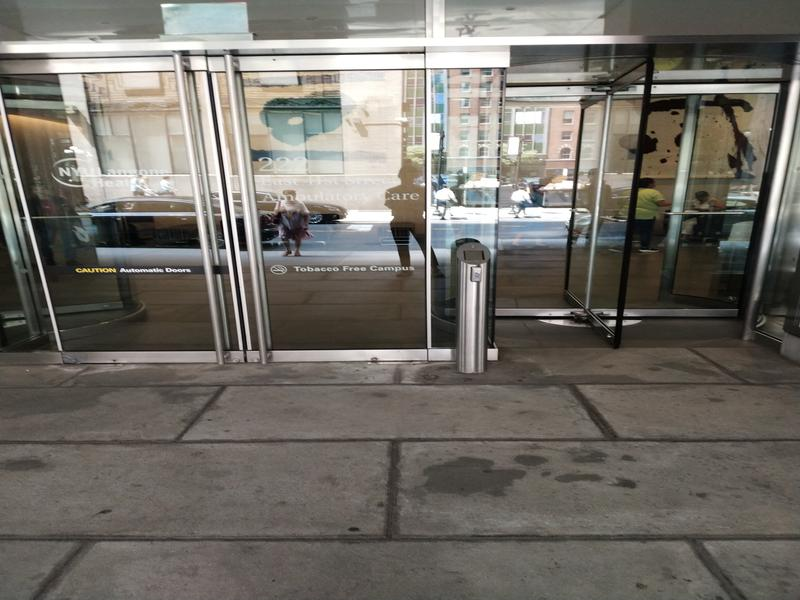double_door: (1, 42, 446, 373)
revolving_door: (497, 32, 765, 356)
